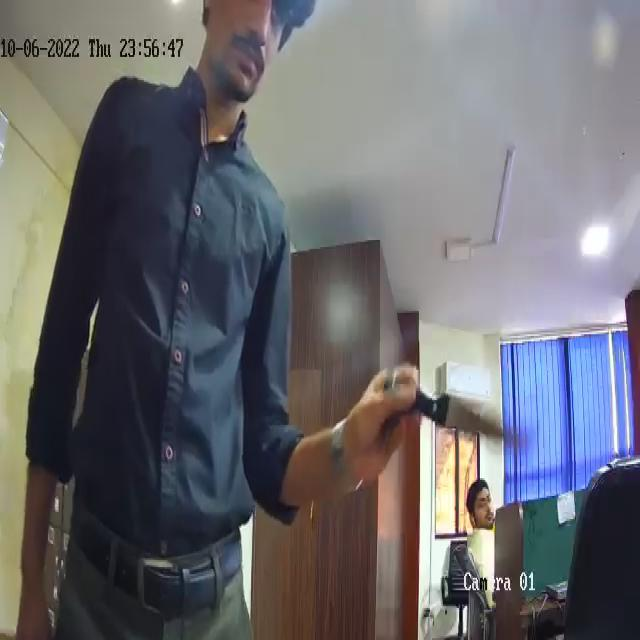Knife: (373, 358, 537, 470)
